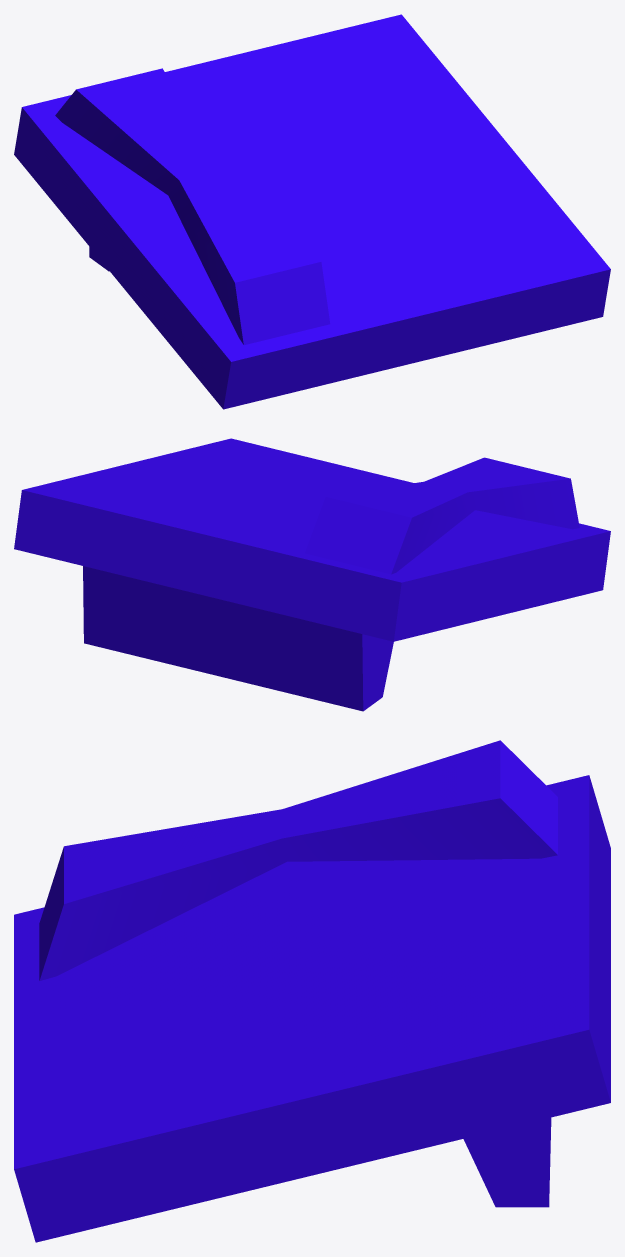
The model's file is office_pack_landlinePhone_1_meshCollider.fbx.
3 renders of one model, top to bottom at view 1: azimuth 30°, elevation 25°; view 2: azimuth 150°, elevation 25°; view 3: azimuth 270°, elevation 25°, orthographic. The views are drawn at different scales.
Visible parts, largest first — view 1: office_pack_landlinePhone_1_meshCollider; view 2: office_pack_landlinePhone_1_meshCollider; view 3: office_pack_landlinePhone_1_meshCollider.
Part boxes in pixels (x1=…): office_pack_landlinePhone_1_meshCollider: x1=14, y1=14, x2=610, y2=409; office_pack_landlinePhone_1_meshCollider: x1=14, y1=438, x2=610, y2=711; office_pack_landlinePhone_1_meshCollider: x1=14, y1=740, x2=610, y2=1242.
Bounding box in the file's own units: 20.24 × 9.72 × 20.05.
